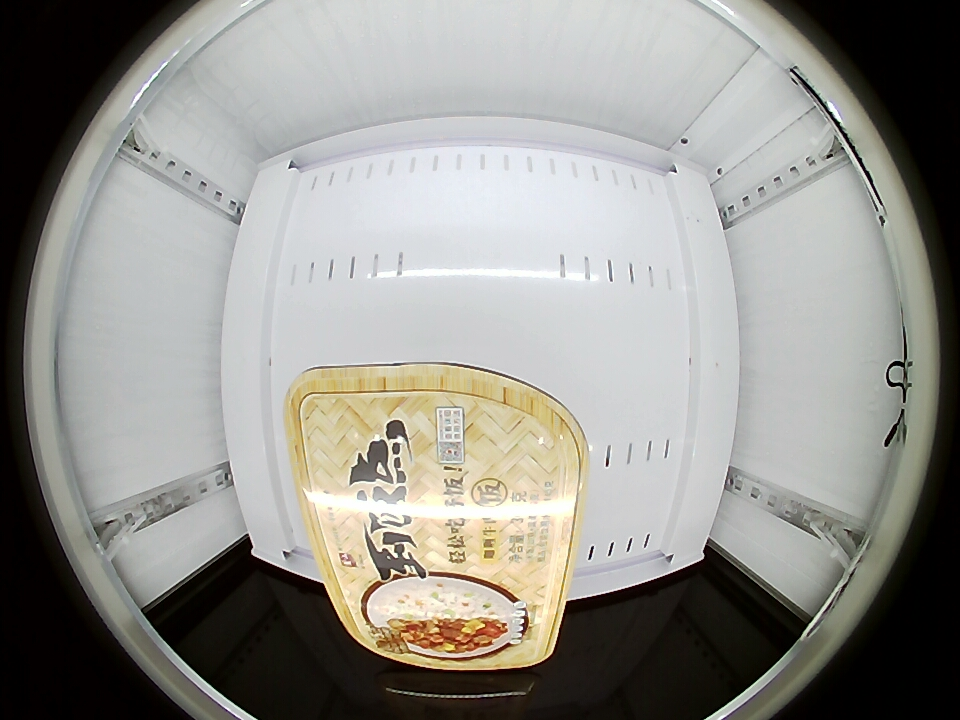daofandian2: (287, 363, 586, 671)
